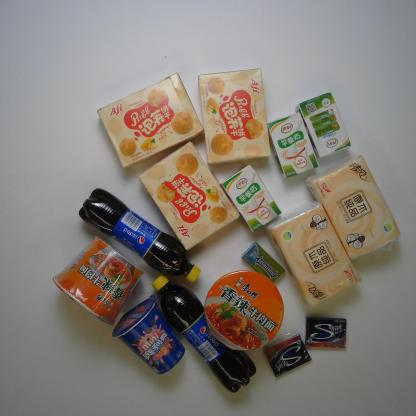Dessert: (95, 72, 205, 170), (140, 140, 238, 250), (195, 62, 273, 164), (110, 297, 186, 376)
Drink: (152, 270, 256, 392), (76, 187, 202, 284)
Gum: (261, 336, 310, 376), (299, 317, 349, 351), (242, 246, 285, 281)
Instant Noodles: (51, 235, 142, 326), (204, 270, 284, 353)
Milk: (224, 165, 282, 232), (297, 90, 351, 158), (266, 113, 317, 178)
Tissue: (268, 201, 362, 307), (312, 157, 398, 259)
